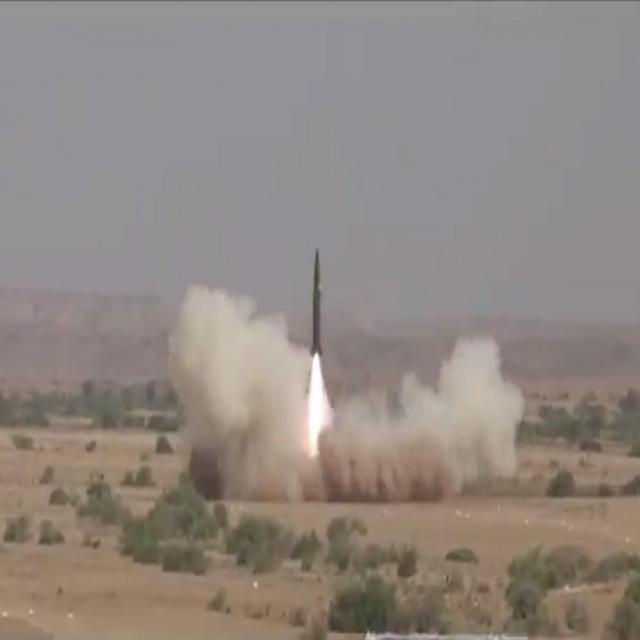missile: (308, 242, 328, 359)
